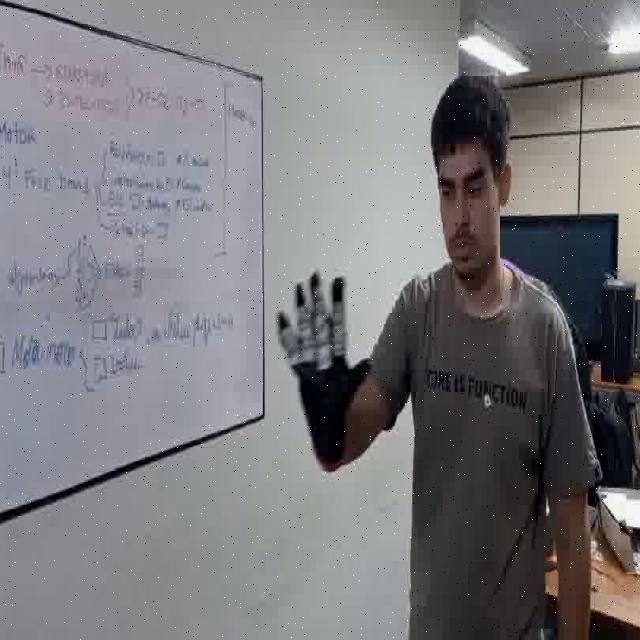Gloves: (275, 264, 375, 469)
